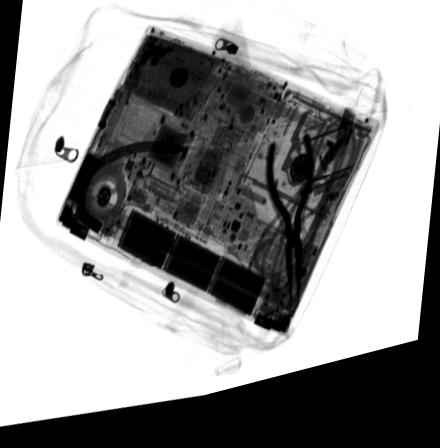Pliers: (264, 148, 314, 319)
